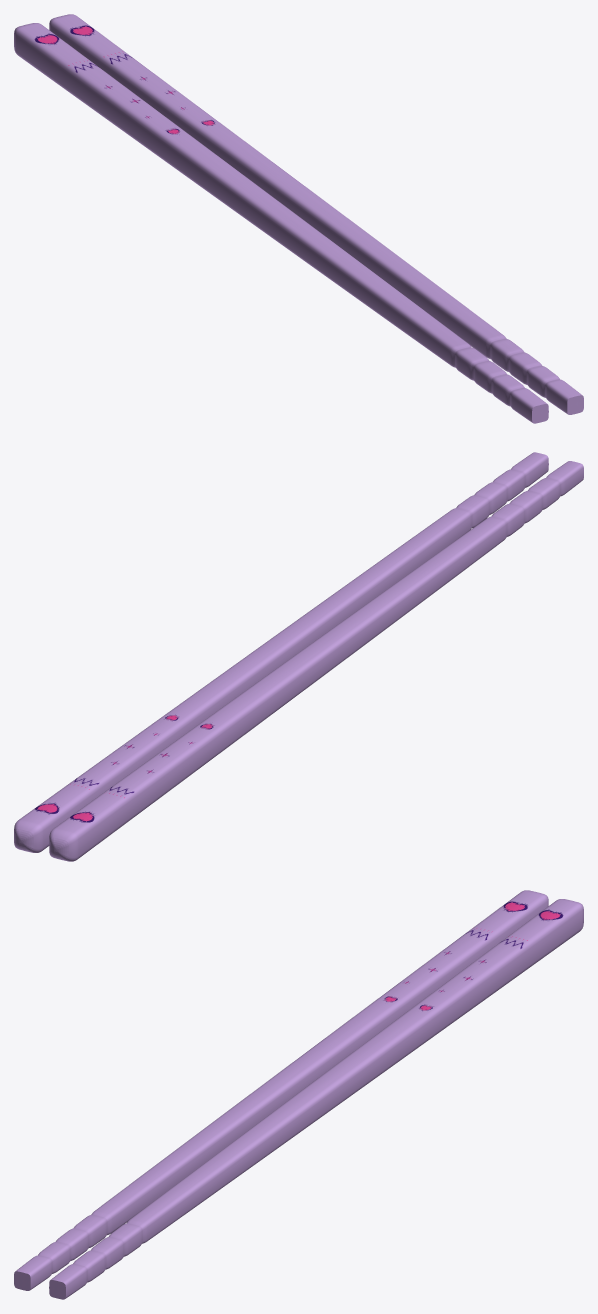
The model's file is LavenderChibiChopsticks_230mm.fbx.
The picture shows the model from 3 angles, top to bottom: view 1: azimuth 30°, elevation 25°; view 2: azimuth 150°, elevation 25°; view 3: azimuth 330°, elevation 25°; orthographic projection.
Parts seen in each view (by area): view 1: Chopstick_Left, Chopstick_Right; view 2: Chopstick_Left, Chopstick_Right; view 3: Chopstick_Right, Chopstick_Left.
Boxes of the visible parts, x1,y1,x2,y2 form: Chopstick_Left: (14, 23, 548, 423); Chopstick_Right: (49, 14, 583, 414); Chopstick_Left: (49, 461, 583, 861); Chopstick_Right: (14, 452, 548, 852); Chopstick_Right: (49, 899, 583, 1299); Chopstick_Left: (14, 890, 548, 1290).
Size of the model in its own units: 0.016 by 0.007 by 0.23.
2 materials, 2 textured.
